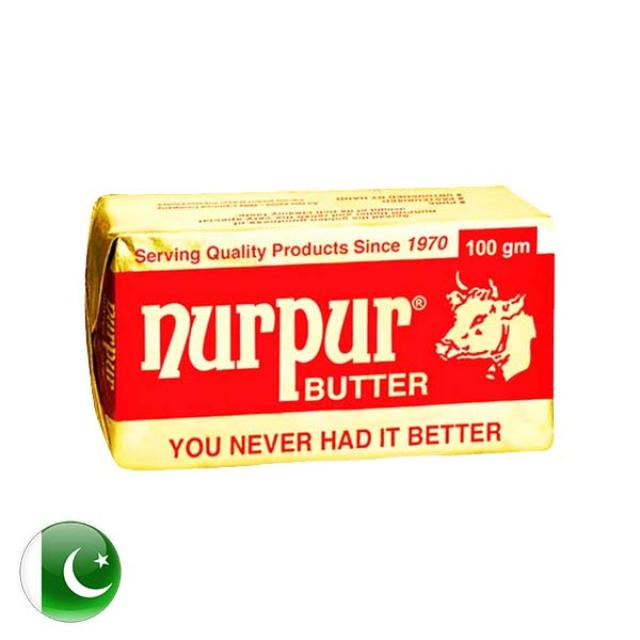butter: (84, 184, 556, 471)
